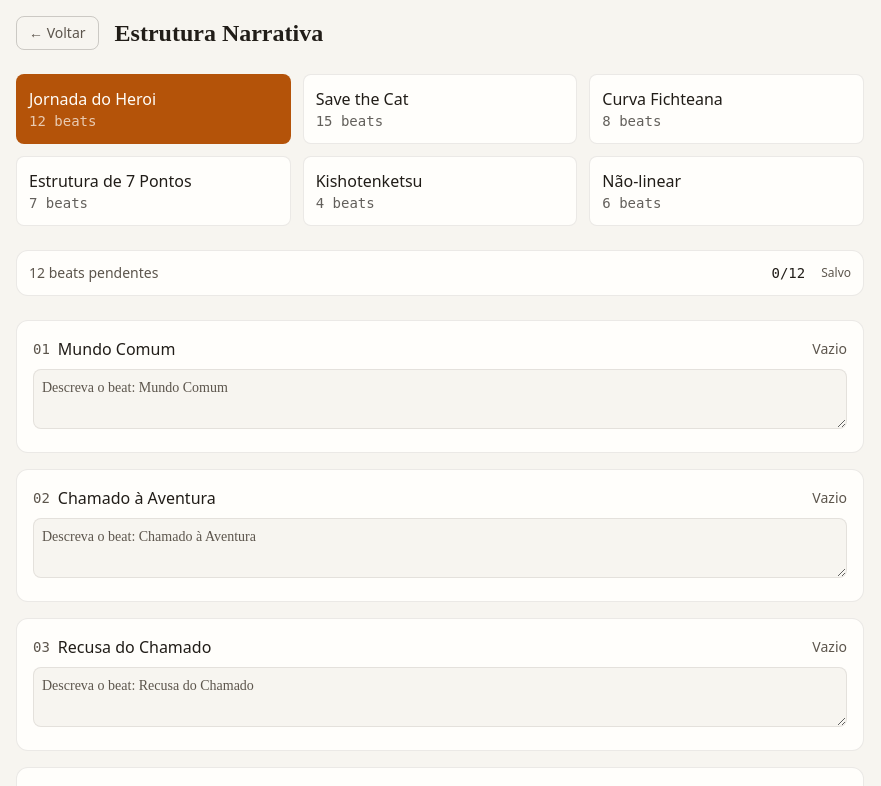
Test: StructurePage › troca de framework redefine os beats e persiste imediatamente
Expected: the text "Jornada do Heroi" is shown, [29,88,156,110]
Click the button "Kishotenketsu 4 beats": [369, 181] box [303,156,577,226]
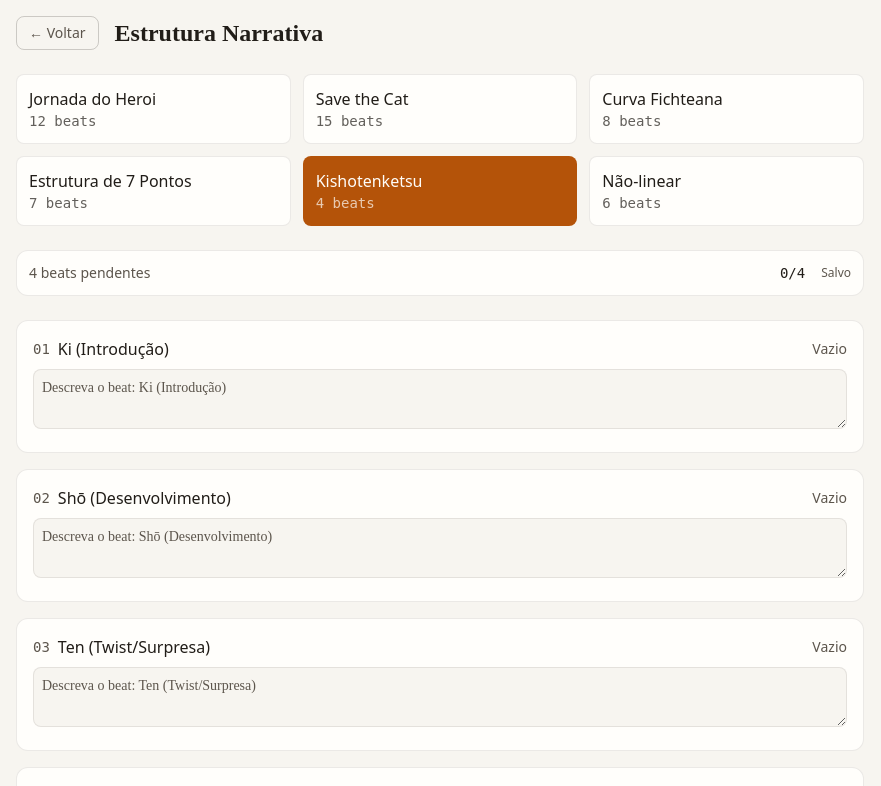
Expected: the text "Kishotenketsu" is shown, [316,170,423,192]
Now the text "0/4" is shown, box [780,263,805,283]
